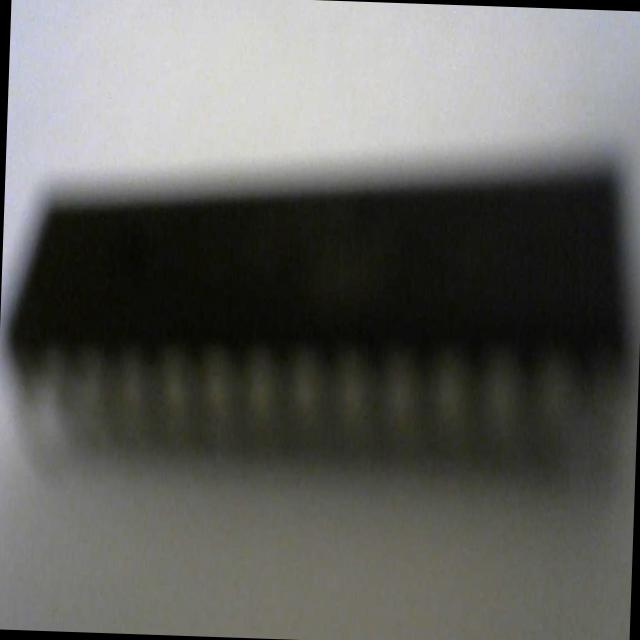atmega: (0, 135, 640, 498)
